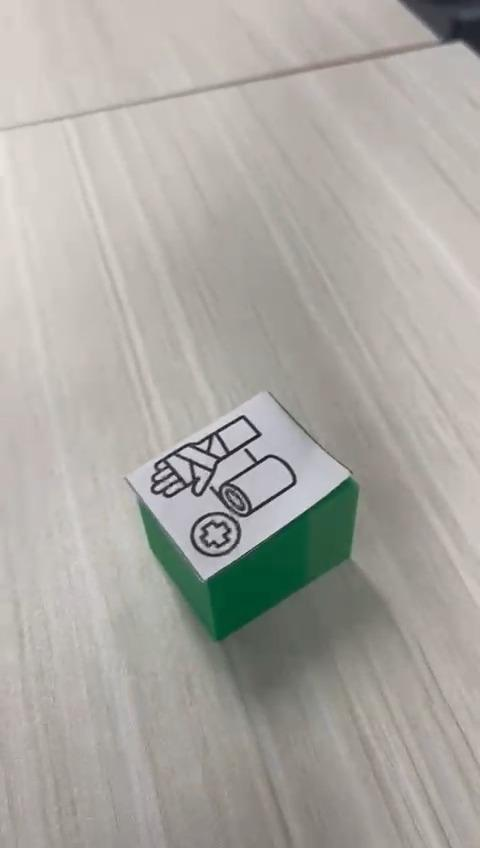Bandages: (123, 390, 360, 643)
